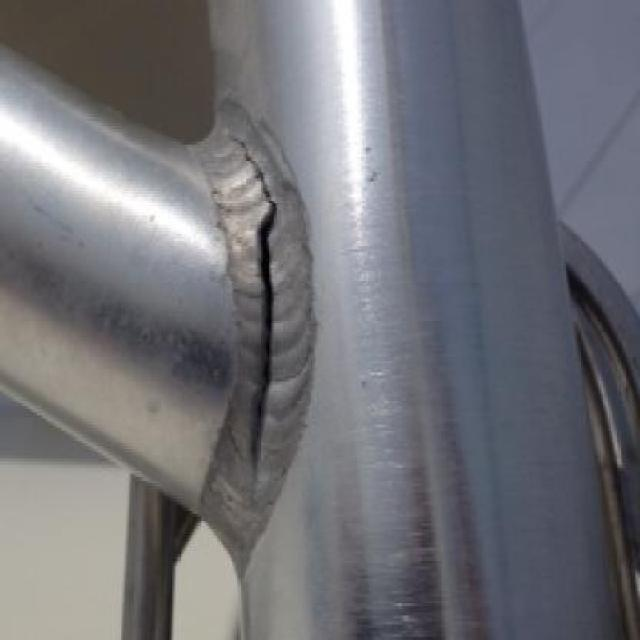crack: (255, 206, 275, 482), (237, 135, 272, 203)
